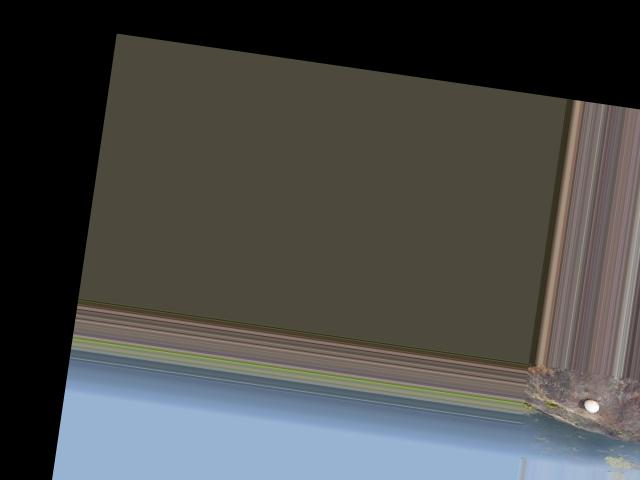egg: (583, 398, 601, 413)
